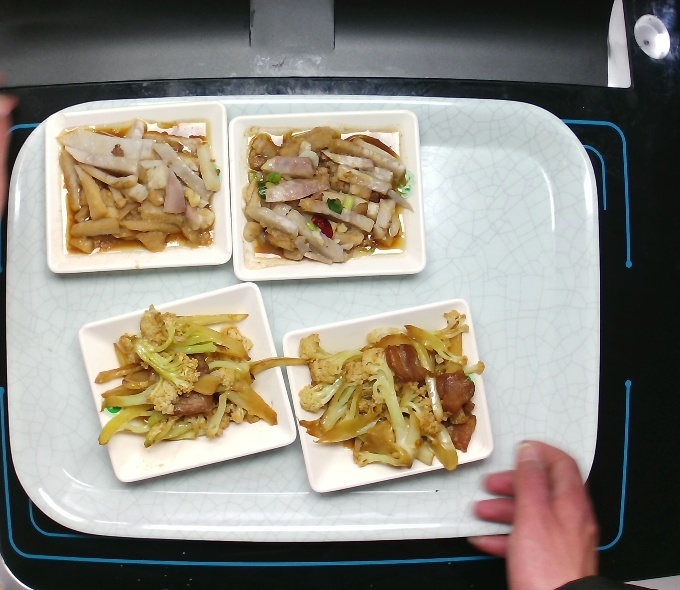wcq-QiuCaiChaoRou: (95, 300, 290, 468), (294, 307, 489, 475)
wcq-YuTou: (52, 107, 226, 262), (239, 119, 413, 274)
